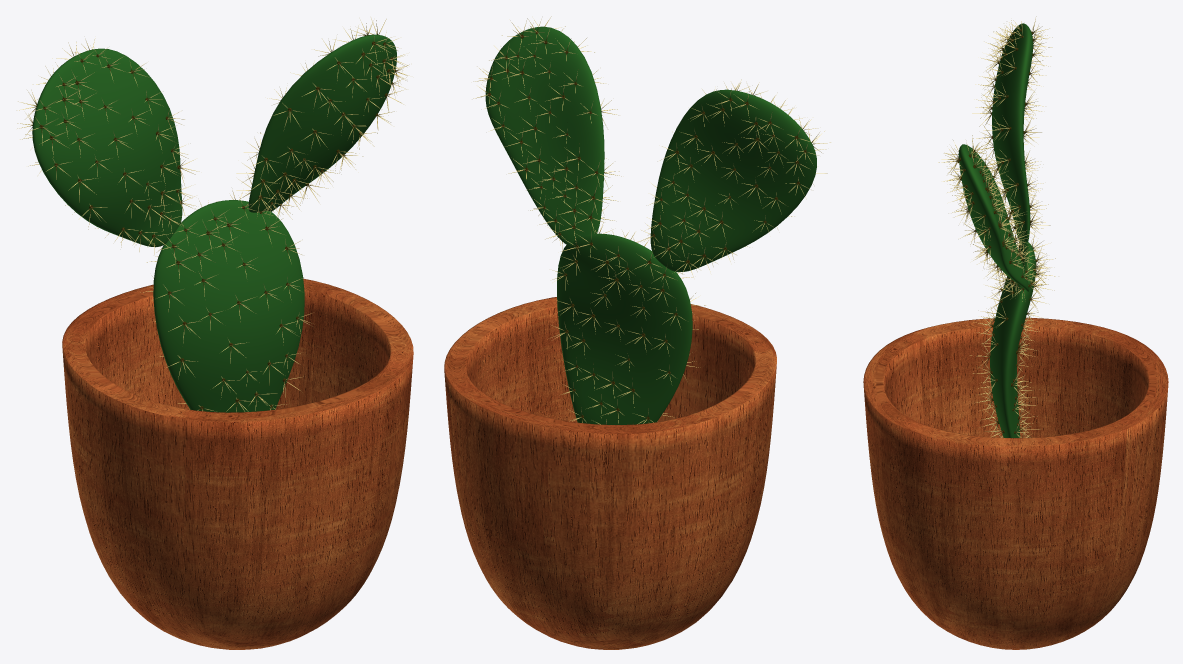
File: OPUNTIA_MICRODASYS_WOODEN_POT.glb
3 renders of one model, left to right at view 1: azimuth 30°, elevation 25°; view 2: azimuth 150°, elevation 25°; view 3: azimuth 270°, elevation 25°, orthographic. The views are drawn at different scales.
Parts seen in each view (by area): view 1: Cube, Pear Cactus1, Pear Cactus4, Pear Cactus3; view 2: Cube, Pear Cactus1, Pear Cactus4, Pear Cactus3; view 3: Cube, Pear Cactus4, Pear Cactus1, Pear Cactus3.
Part boxes in pixels (x1,y1,x2,y2): Cube: (62, 278, 413, 649); Pear Cactus1: (153, 200, 304, 412); Pear Cactus4: (32, 48, 182, 247); Pear Cactus3: (248, 34, 396, 212); Cube: (444, 297, 776, 649); Pear Cactus1: (557, 233, 692, 424); Pear Cactus4: (650, 89, 816, 272); Pear Cactus3: (485, 26, 604, 246); Cube: (863, 317, 1168, 649); Pear Cactus4: (992, 23, 1033, 244); Pear Cactus1: (990, 241, 1036, 437); Pear Cactus3: (958, 144, 1029, 291).
Size of the model in its own units: 1.17 by 1.84 by 0.9193.
Materials: 4 (2 with a texture image).
